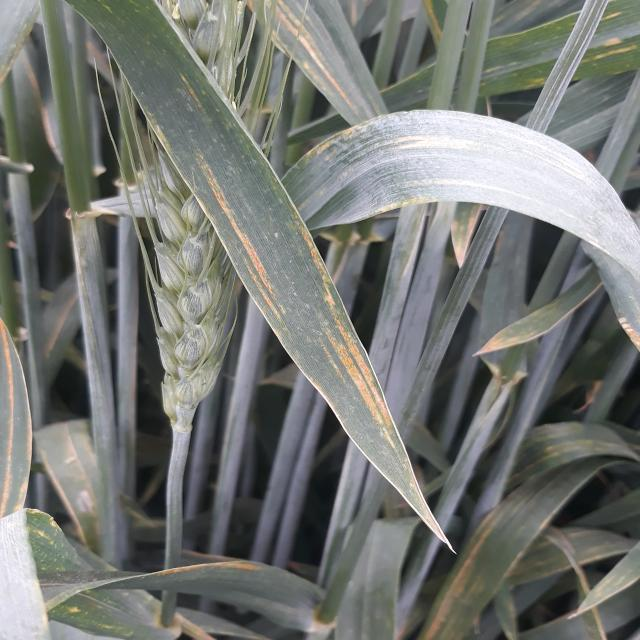yellow_rust: (12, 4, 630, 636)
